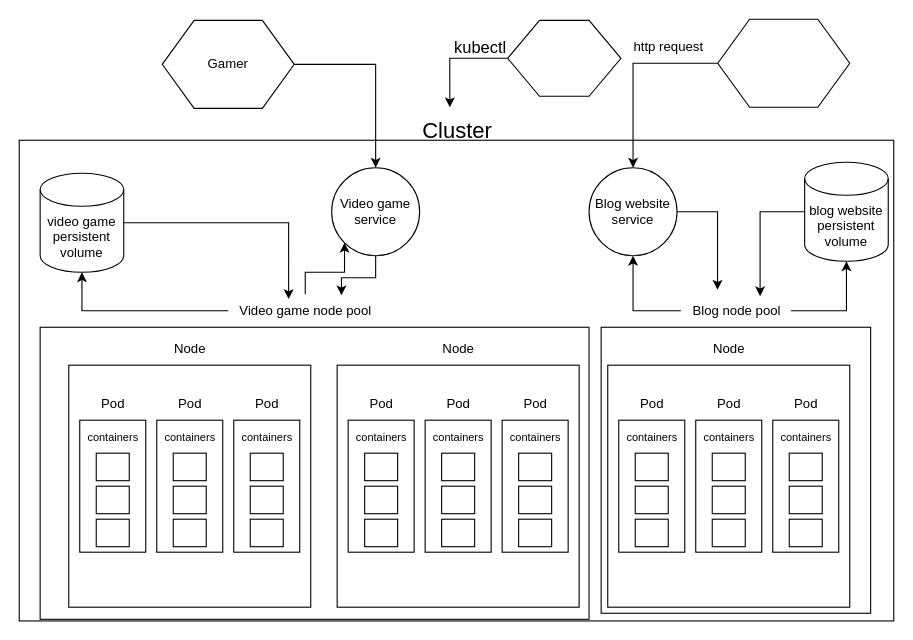
The diagram is 913 pixels wide and 640 high, and some of its shapes have lost their labels. The box of each missing label's shape, as (x1, y1, x2, y2) in pixels:
My Own Computer: (507, 19, 621, 96)
User: (717, 18, 850, 107)
